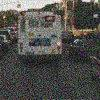buses: (15, 10, 63, 59)
